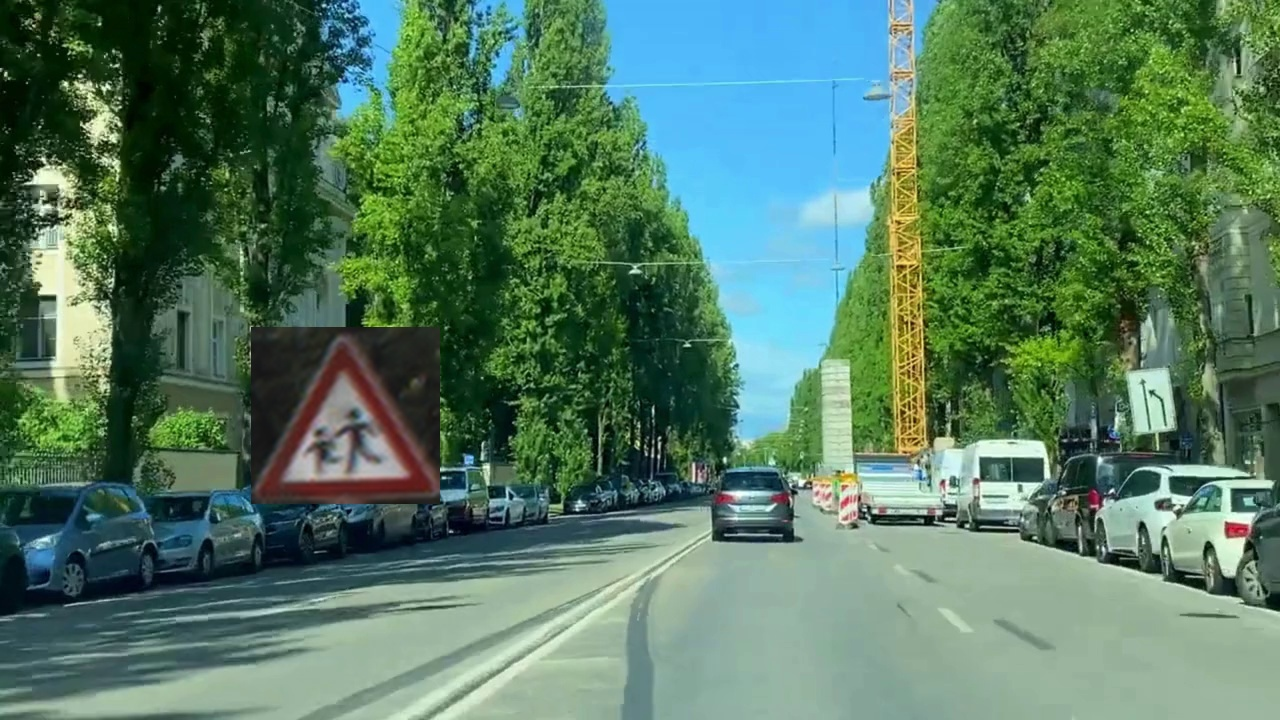Children: (251, 327, 440, 504)
